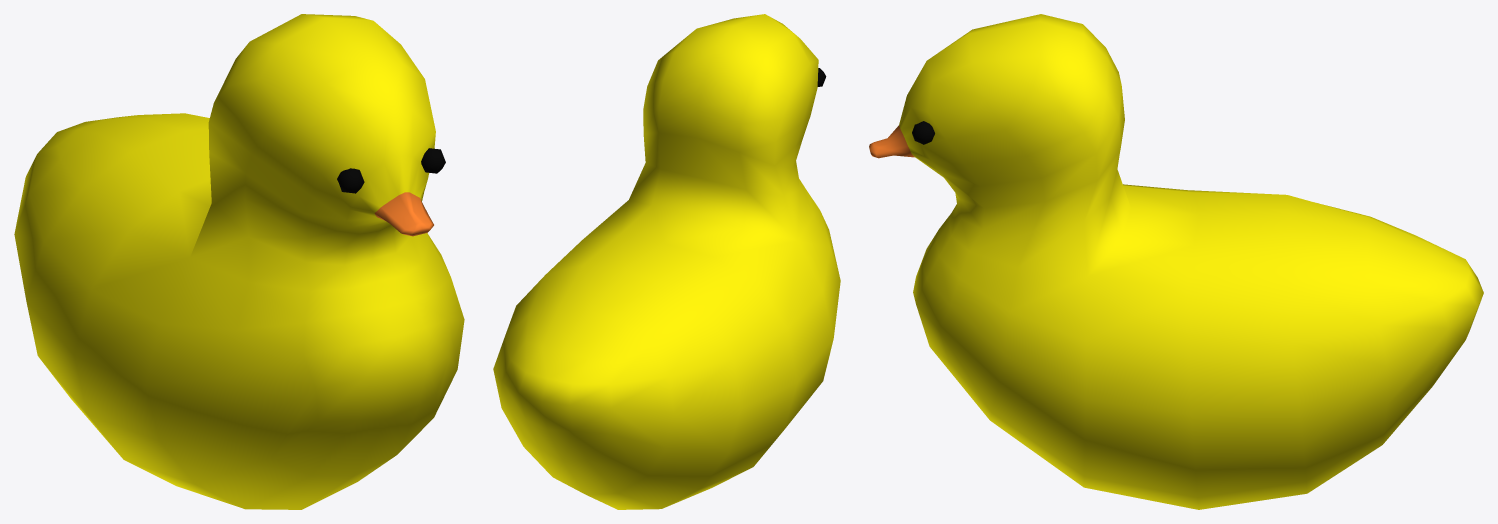
Rendered from Duck.fbx.
3 views of the same model, side by side, from view 1: azimuth 30°, elevation 25°; view 2: azimuth 150°, elevation 25°; view 3: azimuth 270°, elevation 25° (orthographic). The views are drawn at different scales.
Parts seen in each view (by area): view 1: Duck; view 2: Duck; view 3: Duck.
Boxes of the visible parts, bbox=[...] form: Duck: bbox=[14, 14, 464, 509]; Duck: bbox=[493, 14, 840, 509]; Duck: bbox=[869, 14, 1483, 509].
Size of the model in its own units: 47.9 by 73.17 by 85.67.
